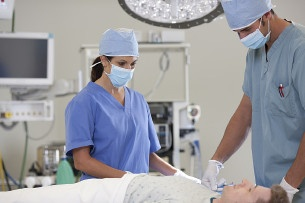Mask: (105, 56, 138, 88)
